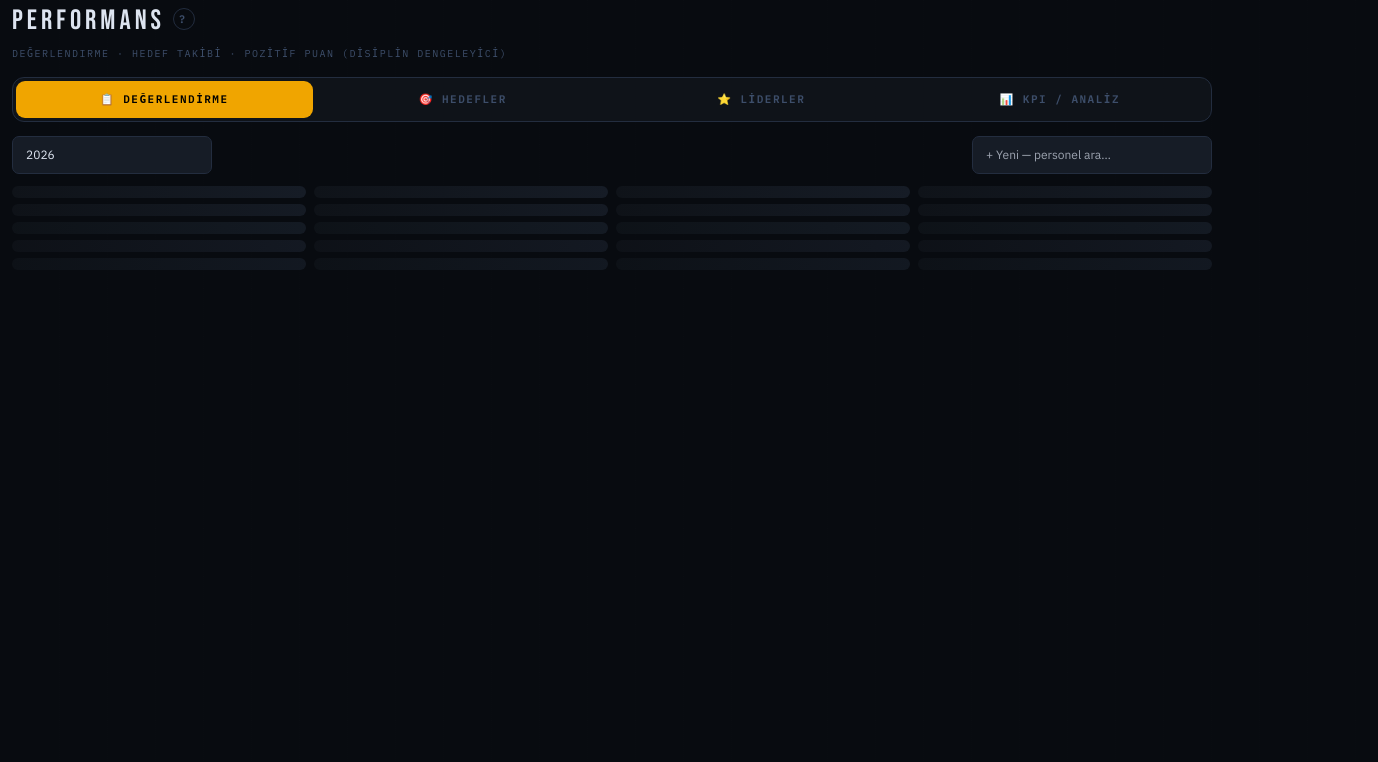
performance/KpiTab smoke › özet kartları ve departman kıyasını render eder
Click the button "📊 KPI / ANALİZ": (1060, 99) [912,81,1208,118]
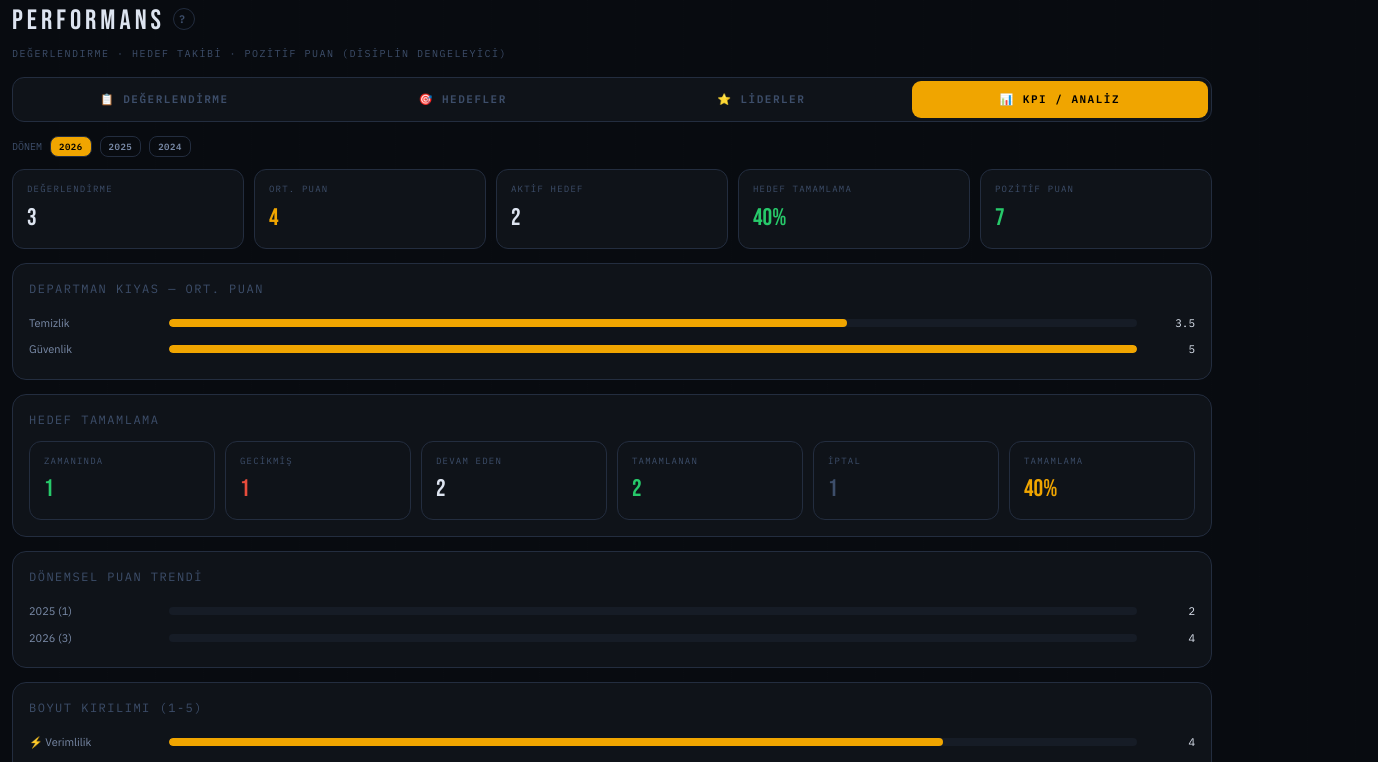
Now the heading "DEPARTMAN KIYAS — ORT. PUAN" is shown, box [29,280,264,296]
Now the text "Temizlik" is shown, box [29,316,70,330]
Now the text "Güvenlik" is shown, box [29,342,72,356]
